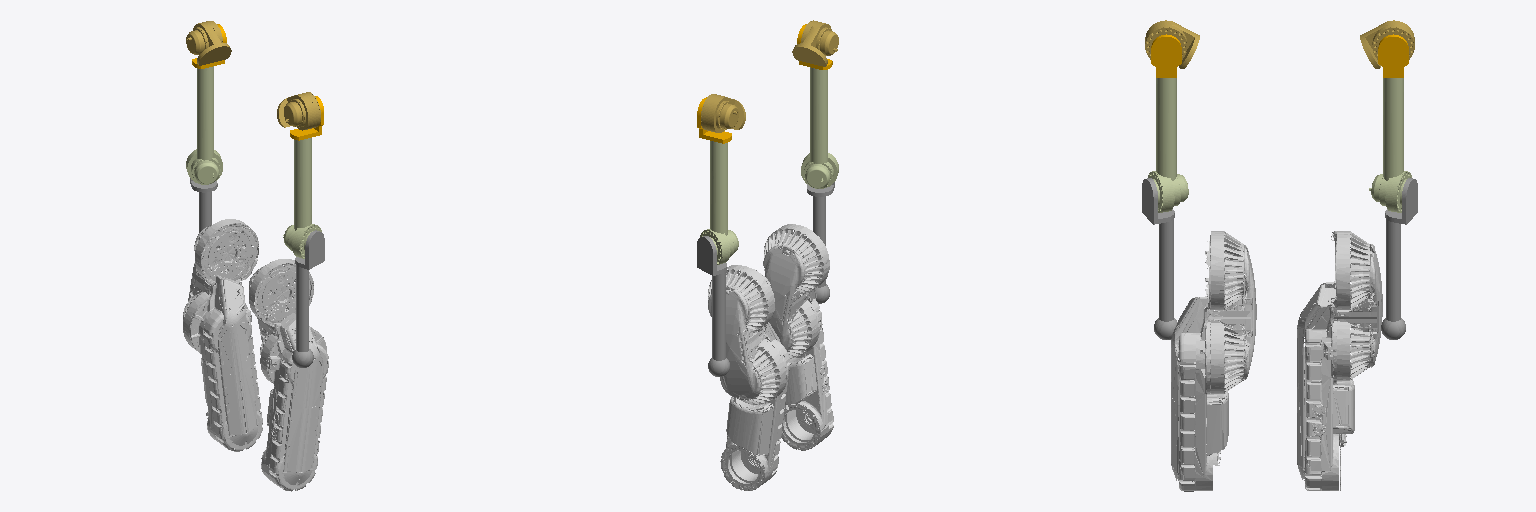
--- Render facts (derived) ---
3 views of the same robot in one strip: view 1: azimuth 30°, elevation 25°; view 2: azimuth 150°, elevation 25°; view 3: azimuth 270°, elevation 25° (orthographic).
Robot: qdh — 28 links, 27 joints (18 revolute, 9 fixed); root link Torso; default pose: all joints at 0.
Links seen in each view (by area): view 1: l_thigh_link, r_thigh_link, l_shldr_ie_link, r_shldr_ie_link, r_elbow_fe_link, l_shldr_fe_link, r_shldr_fe_link, l_elbow_fe_link; view 2: l_thigh_link, r_thigh_link, r_shldr_ie_link, l_shldr_ie_link, l_elbow_fe_link, r_shldr_fe_link, l_shldr_fe_link, r_elbow_fe_link; view 3: r_thigh_link, l_thigh_link, l_shldr_ie_link, r_shldr_ie_link, l_elbow_fe_link, r_elbow_fe_link, l_shldr_fe_link, r_shldr_fe_link, l_shldr_aa_link, r_shldr_aa_link.
Boxes of the visible links, x1,y1,x2,y2 form: l_thigh_link: (183,219,262,451); r_thigh_link: (249,259,328,491); l_shldr_ie_link: (186,66,222,184); r_shldr_ie_link: (283,138,321,258); r_elbow_fe_link: (292,230,324,367); l_shldr_fe_link: (186,21,231,65); r_shldr_fe_link: (277,92,320,130); l_elbow_fe_link: (190,178,217,232); l_thigh_link: (708,265,790,490); r_thigh_link: (758,224,833,450); r_shldr_ie_link: (801,67,838,188); l_shldr_ie_link: (700,141,738,264); l_elbow_fe_link: (697,236,729,376); r_shldr_fe_link: (792,20,838,66); l_shldr_fe_link: (701,94,745,132); r_elbow_fe_link: (807,182,834,303); r_thigh_link: (1171,231,1256,491); l_thigh_link: (1297,231,1382,490); l_shldr_ie_link: (1369,78,1411,212); r_shldr_ie_link: (1148,78,1188,212); l_elbow_fe_link: (1381,178,1417,339); r_elbow_fe_link: (1142,178,1177,339); l_shldr_fe_link: (1360,20,1414,68); r_shldr_fe_link: (1145,20,1199,68); l_shldr_aa_link: (1378,34,1408,77); r_shldr_aa_link: (1151,34,1181,77).
Size in the robot's own frame: 0.2206 by 0.5469 by 1.02 metres.
Meshes: 19 distinct files referenced, 10 mesh visuals loaded (10 binary STL); not drawn: 9 (reference not matched to a file when rendering).

The robot description file, URDF, robot "qdh":
<robot name="qdh">
<link name="Torso">
<visual>
<origin xyz="0 0 0" rpy="0 -0 0" />
<geometry>
<mesh filename="package://qdh_model_meshes/meshes/qdh_v01/torso_link_visual.stl"/>
</geometry>
<material name="torso_link_material">
<color rgba="0.661061 0.809813 0.846468 1.0"/>
</material>
</visual>
<collision>
<origin xyz="0 0 0" rpy="0 -0 0" />
<geometry>
        <sphere radius="0.01"/>
</geometry>
<material name="torso_link_material">
<color rgba="0.5 0.5 0.5 1.0"/>
</material>
</collision>
<inertial>
<origin xyz="0.0 0.0 0.292777" rpy="0 0 0"/>
<mass value="24.1689" />
<inertia ixx="0.541355" ixy="-1.93174e-10"  ixz="1.63423e-05" iyy="0.395745" iyz="-1.75763e-09" izz="0.169528" />
</inertial>
</link>

<!--=============================== l_hip_ie (l_hip_ie_link) ===========================-->
<joint name="l_hip_ie" type="revolute">
<origin xyz="0.0 0.125 0.0" rpy="0.0 0.0 -3.14159" />
<parent link="Torso" />
<child link="l_hip_ie_link" />
<axis xyz="0 0.258819 0.965926"/>
<limit effort="70.0" velocity="4.1" lower="-0.523599" upper="0.523599"/>
<joint_properties friction="0.0"/>
</joint>

<link name="l_hip_ie_link">
<visual>
<origin xyz="0 0 0" rpy="0 -0 0" />
<geometry>
<mesh filename="package://qdh_model_meshes/meshes/qdh_v01/l_hip_ie_link_visual.stl"/>
</geometry>
<material name="l_hip_ie_link_material">
<color rgba="0.882221 0.910189 0.926037 1.0"/>
</material>
</visual>
<collision>
<origin xyz="0 0 0" rpy="0 -0 0" />
<geometry>
        <sphere radius="0.01"/>
</geometry>
<material name="l_hip_ie_link_material">
<color rgba="0.5 0.5 0.5 1.0"/>
</material>
</collision>
<inertial>
<origin xyz="0.104392 0.00237928 0.00887718" rpy="0 0 0"/>
<mass value="3.96893" />
<inertia ixx="0.0130843" ixy="0.000634222"  ixz="0.00236696" iyy="0.011952" iyz="-0.000642295" izz="0.00972725" />
</inertial>
</link>

<!--=============================== l_hip_aa (l_hip_aa_link) ===========================-->
<joint name="l_hip_aa" type="revolute">
<origin xyz="0.0 0.0 0.0" rpy="0.0 0.0 0.0" />
<parent link="l_hip_ie_link" />
<child link="l_hip_aa_link" />
<axis xyz="-1 0 0"/>
<limit effort="250.0" velocity="16.33" lower="-0.261799" upper="0.785398"/>
<joint_properties friction="0.0"/>
</joint>

<link name="l_hip_aa_link">
<visual>
<origin xyz="0 0 0" rpy="0 -0 0" />
<geometry>
<mesh filename="package://qdh_model_meshes/meshes/qdh_v01/l_hip_aa_link_visual.stl"/>
</geometry>
<material name="l_hip_aa_link_material">
<color rgba="0.972549 0.529412 0.00392157 1.0"/>
</material>
</visual>
<collision>
<origin xyz="0 0 0" rpy="0 -0 0" />
<geometry>
        <sphere radius="0.01"/>
</geometry>
<material name="l_hip_aa_link_material">
<color rgba="0.5 0.5 0.5 1.0"/>
</material>
</collision>
<inertial>
<origin xyz="0.0453699 0.00851046 0.0" rpy="0 0 0"/>
<mass value="1.04819" />
<inertia ixx="0.00149146" ixy="0.000268709"  ixz="0.0" iyy="0.00313198" iyz="0.0" izz="0.00258003" />
</inertial>
</link>

<!--=============================== l_hip_fe (l_thigh_link) ===========================-->
<joint name="l_hip_fe" type="revolute">
<origin xyz="0.0 0.0 0.0" rpy="0.0 0.0 0.0" />
<parent link="l_hip_aa_link" />
<child link="l_thigh_link" />
<axis xyz="-0 -1 -0"/>
<limit effort="250.0" velocity="16.33" lower="-2.0944" upper="0.523599"/>
<joint_properties friction="0.0"/>
</joint>

<link name="l_thigh_link">
<visual>
<origin xyz="0 0 0" rpy="0 -0 0" />
<geometry>
<mesh filename="package://qdh_model_meshes/meshes/qdh_v01/l_thigh_link_visual.stl"/>
</geometry>
<material name="l_thigh_link_material">
<color rgba="0.848889 0.848889 0.848889 1.0"/>
</material>
</visual>
<collision>
<origin xyz="0 0 0" rpy="0 -0 0" />
<geometry>
        <sphere radius="0.01"/>
</geometry>
<material name="l_thigh_link_material">
<color rgba="0.5 0.5 0.5 1.0"/>
</material>
</collision>
<inertial>
<origin xyz="-0.0122458 -0.00837821 -0.126312" rpy="0.0 0.0 0.0"/>
<mass value="8.11218" />
<inertia ixx="0.132804" ixy="-9.17515e-05"  ixz="-0.00330904" iyy="0.137766" iyz="0.0111776" izz="0.015208" />
</inertial>
</link>

<!--=============================== l_knee_fe (l_shin_link) ===========================-->
<joint name="l_knee_fe" type="revolute">
<origin xyz="0.0 0.0 -0.42" rpy="0.0 0.0 3.14159" />
<parent link="l_thigh_link" />
<child link="l_shin_link" />
<axis xyz="0 1 6.12323e-17"/>
<limit effort="250.0" velocity="16.33" lower="-0.174533" upper="2.61799"/>
<joint_properties friction="0.0"/>
</joint>

<link name="l_shin_link">
<visual>
<origin xyz="0 0 0" rpy="0 -0 0" />
<geometry>
<mesh filename="package://qdh_model_meshes/meshes/qdh_v01/l_shin_link_visual.stl"/>
</geometry>
<material name="l_shin_link_material">
<color rgba="0.408645 0.494114 0.680797 1.0"/>
</material>
</visual>
<collision>
<origin xyz="0 0 0" rpy="0 -0 0" />
<geometry>
        <sphere radius="0.01"/>
</geometry>
<material name="l_shin_link_material">
<color rgba="0.5 0.5 0.5 1.0"/>
</material>
</collision>
<inertial>
<origin xyz="-0.0227771 0.00202875 -0.190035" rpy="0 0 0"/>
<mass value="1.68866" />
<inertia ixx="0.019695" ixy="0.000101816"  ixz="-0.00036985" iyy="0.0207143" iyz="-2.21663e-05" izz="0.00143483" />
</inertial>
</link>

<!--=============================== l_ankle_fe (l_foot_link) ===========================-->
<joint name="l_ankle_fe" type="revolute">
<origin xyz="0.0 0.0 -0.42" rpy="0.0 0.0 0.0" />
<parent link="l_shin_link" />
<child link="l_foot_link" />
<axis xyz="0 1 6.12323e-17"/>
<limit effort="99.0" velocity="5.7" lower="-1.309" upper="0.523599"/>
<joint_properties friction="0.0"/>
</joint>

<link name="l_foot_link">
<visual>
<origin xyz="0 0 0" rpy="0 -0 0" />
<geometry>
<mesh filename="package://qdh_model_meshes/meshes/qdh_v01/l_foot_link_visual.stl"/>
</geometry>
<material name="l_foot_link_material">
<color rgba="0.862341 0.862341 0.862341 1.0"/>
</material>
</visual>
<collision>
<origin xyz="0 0 0" rpy="0 -0 0" />
<geometry>
<mesh filename="package://qdh_model_meshes/meshes/qdh_v01/l_foot_link_collision.stl"/>
</geometry>
<material name="l_foot_link_material">
<color rgba="0.5 0.5 0.5 1.0"/>
</material>
</collision>
<inertial>
<origin xyz="0.0227981 0.000174967 -0.0266022" rpy="0 0 0"/>
<mass value="0.659155" />
<inertia ixx="0.00291555" ixy="7.85635e-06"  ixz="0.00160026" iyy="0.0051971" iyz="-1.09285e-05" izz="0.00253433" />
</inertial>
</link>

<!--=============================== l_shldr_fe (l_shldr_fe_link) ===========================-->
<joint name="l_shldr_fe" type="revolute">
<origin xyz="0.0 0.225 0.5" rpy="0.0 0.0 -3.14159" />
<parent link="Torso" />
<child link="l_shldr_fe_link" />
<axis xyz="0 -0.866025 0.5"/>
<limit effort="70.0" velocity="4.1" lower="-3.14159" upper="0.785398"/>
<joint_properties friction="0.0"/>
</joint>

<link name="l_shldr_fe_link">
<visual>
<origin xyz="0 0 0" rpy="0 -0 0" />
<geometry>
<mesh filename="package://qdh_model_meshes/meshes/qdh_v01/l_shldr_fe_link_visual.stl"/>
</geometry>
<material name="l_shldr_fe_link_material">
<color rgba="0.778525 0.671347 0.361217 1.0"/>
</material>
</visual>
<collision>
<origin xyz="0 0 0" rpy="0 -0 0" />
<geometry>
        <sphere radius="0.01"/>
</geometry>
<material name="l_shldr_fe_link_material">
<color rgba="0.5 0.5 0.5 1.0"/>
</material>
</collision>
<inertial>
<origin xyz="0.000369843 0.00906443 -0.00296103" rpy="0 0 0"/>
<mass value="1.29278" />
<inertia ixx="0.00132913" ixy="4.33403e-06"  ixz="-1.35362e-06" iyy="0.000862929" iyz="0.000100516" izz="0.0011652" />
</inertial>
</link>

<!--=============================== l_shldr_aa (l_shldr_aa_link) ===========================-->
<joint name="l_shldr_aa" type="revolute">
<origin xyz="0.0 0.0 0" rpy="0.0 0.0 0.0" />
<parent link="l_shldr_fe_link" />
<child link="l_shldr_aa_link" />
<axis xyz="-1 0 0"/>
<limit effort="70.0" velocity="4.1" lower="0" upper="2.0944"/>
<joint_properties friction="0.0"/>
</joint>

<link name="l_shldr_aa_link">
<visual>
<origin xyz="0 0 0" rpy="0 -0 0" />
<geometry>
<mesh filename="package://qdh_model_meshes/meshes/qdh_v01/l_shldr_aa_link_visual.stl"/>
</geometry>
<material name="l_shldr_aa_link_material">
<color rgba="0.980392 0.713725 0.00392157 1.0"/>
</material>
</visual>
<collision>
<origin xyz="0 0 0" rpy="0 -0 0" />
<geometry>
        <sphere radius="0.01"/>
</geometry>
<material name="l_shldr_aa_link_material">
<color rgba="0.5 0.5 0.5 1.0"/>
</material>
</collision>
<inertial>
<origin xyz="-0.0235146 0.0 -0.0282856" rpy="0.0 0.0 0.0"/>
<mass value="0.50916" />
<inertia ixx="0.000477279" ixy="-9.4465e-36"  ixz="0.000156224" iyy="0.00055751" iyz="2.01636e-34" izz="0.000283247" />
</inertial>
</link>

<!--=============================== l_shldr_ie (l_shldr_ie_link) ===========================-->
<joint name="l_shldr_ie" type="revolute">
<origin xyz="0 0 0" rpy="0.0 0.0 0.0" />
<parent link="l_shldr_aa_link" />
<child link="l_shldr_ie_link" />
<axis xyz="0 0 1"/>
<limit effort="70.0" velocity="4.1" lower="0" upper="0"/>
<joint_properties friction="0.0"/>
</joint>

<link name="l_shldr_ie_link">
<visual>
<origin xyz="0 0 0" rpy="0 -0 0" />
<geometry>
<mesh filename="package://qdh_model_meshes/meshes/qdh_v01/l_shldr_ie_link_visual.stl"/>
</geometry>
<material name="l_shldr_ie_link_material">
<color rgba="0.770977 0.805086 0.645547 1.0"/>
</material>
</visual>
<collision>
<origin xyz="0 0 0" rpy="0 -0 0" />
<geometry>
        <sphere radius="0.01"/>
</geometry>
<material name="l_shldr_ie_link_material">
<color rgba="0.5 0.5 0.5 1.0"/>
</material>
</collision>
<inertial>
<origin xyz="0.0 0.000139041 -0.246428" rpy="0 0 0"/>
<mass value="1.7655" />
<inertia ixx="0.0145824" ixy="-1.98116e-05"  ixz="4.02637e-05" iyy="0.0146254" iyz="1.24064e-05" izz="0.000666801" />
</inertial>
</link>

<!--=============================== l_elbow_fe (l_elbow_fe_link) ===========================-->
<joint name="l_elbow_fe" type="revolute">
<origin xyz="0.0 0.0 -0.325" rpy="0.0 0.0 -0.392699" />
<parent link="l_shldr_ie_link" />
<child link="l_elbow_fe_link" />
<axis xyz="0 -1 -6.12323e-17"/>
<limit effort="70.0" velocity="4.1" lower="-2.53073" upper="0.174533"/>
<joint_properties friction="0.0"/>
</joint>

<link name="l_elbow_fe_link">
<visual>
<origin xyz="0 0 0" rpy="0 -0 0" />
<geometry>
<mesh filename="package://qdh_model_meshes/meshes/qdh_v01/l_elbow_fe_link_visual.stl"/>
</geometry>
<material name="l_elbow_fe_link_material">
<color rgba="0.647059 0.647059 0.647059 1.0"/>
</material>
</visual>
<collision>
<origin xyz="0 0 0" rpy="0 -0 0" />
<geometry>
        <sphere radius="0.01"/>
</geometry>
<material name="l_elbow_fe_link_material">
<color rgba="0.5 0.5 0.5 1.0"/>
</material>
</collision>
<inertial>
<origin xyz="0.0 -0.00643269 -0.162661" rpy="0 0 0"/>
<mass value="1.02527" />
<inertia ixx="0.0115586" ixy="0.0"  ixz="0.0" iyy="0.011444" iyz="0.000942624" izz="0.000366721" />
</inertial>
</link>

<!--=============================== r_hip_ie (r_hip_ie_link) ===========================-->
<joint name="r_hip_ie" type="revolute">
<origin xyz="0.0 -0.125 0.0" rpy="0.0 0.0 0.0" />
<parent link="Torso" />
<child link="r_hip_ie_link" />
<axis xyz="0 0.258819 0.965926"/>
<limit effort="70.0" velocity="4.1" lower="-0.523599" upper="0.523599"/>
<joint_properties friction="0.0"/>
</joint>

<link name="r_hip_ie_link">
<visual>
<origin xyz="0 0 0" rpy="0 -0 0" />
<geometry>
<mesh filename="package://qdh_model_meshes/meshes/qdh_v01/r_hip_ie_link_visual.stl"/>
</geometry>
<material name="r_hip_ie_link_material">
<color rgba="0.882221 0.910189 0.926037 1.0"/>
</material>
</visual>
<collision>
<origin xyz="0 0 0" rpy="0 -0 0" />
<geometry>
        <sphere radius="0.01"/>
</geometry>
<material name="r_hip_ie_link_material">
<color rgba="0.5 0.5 0.5 1.0"/>
</material>
</collision>
<inertial>
<origin xyz="-0.104392 0.00237807 0.0088775" rpy="0 0 0"/>
<mass value="3.96893" />
<inertia ixx="0.0130843" ixy="-0.000641895"  ixz="-0.00236694" iyy="0.011952" iyz="-0.000630085" izz="0.00972728" />
</inertial>
</link>

<!--=============================== r_hip_aa (r_hip_aa_link) ===========================-->
<joint name="r_hip_aa" type="revolute">
<origin xyz="0 0.0 0.0" rpy="0.0 0.0 0.0" />
<parent link="r_hip_ie_link" />
<child link="r_hip_aa_link" />
<axis xyz="1 0 0"/>
<limit effort="250.0" velocity="16.33" lower="-0.785398" upper="0.261799"/>
<joint_properties friction="0.0"/>
</joint>

<link name="r_hip_aa_link">
<visual>
<origin xyz="0 0 0" rpy="0 -0 0" />
<geometry>
<mesh filename="package://qdh_model_meshes/meshes/qdh_v01/r_hip_aa_link_visual.stl"/>
</geometry>
<material name="r_hip_aa_link_material">
<color rgba="0.972549 0.529412 0.00392157 1.0"/>
</material>
</visual>
<collision>
<origin xyz="0 0 0" rpy="0 -0 0" />
<geometry>
        <sphere radius="0.01"/>
</geometry>
<material name="r_hip_aa_link_material">
<color rgba="0.5 0.5 0.5 1.0"/>
</material>
</collision>
<inertial>
<origin xyz="-0.0453699 0.00851046 0.0" rpy="0 0 0"/>
<mass value="1.04819" />
<inertia ixx="0.00149146" ixy="-0.000268709"  ixz="-1.1019e-33" iyy="0.00313198" iyz="-1.11739e-33" izz="0.00258003" />
</inertial>
</link>

<!--=============================== r_hip_fe (r_thigh_link) ===========================-->
<joint name="r_hip_fe" type="revolute">
<origin xyz="0.0 0.0 0.0" rpy="0.0 0.0 0.0" />
<parent link="r_hip_aa_link" />
<child link="r_thigh_link" />
<axis xyz="0 1 0"/>
<limit effort="250.0" velocity="16.33" lower="-2.0944" upper="0.523599"/>
<joint_properties friction="0.0"/>
</joint>

<link name="r_thigh_link">
<visual>
<origin xyz="0 0 0" rpy="0 -0 0" />
<geometry>
<mesh filename="package://qdh_model_meshes/meshes/qdh_v01/r_thigh_link_visual.stl"/>
</geometry>
<material name="r_thigh_link_material">
<color rgba="0.848889 0.848889 0.848889 1.0"/>
</material>
</visual>
<collision>
<origin xyz="0 0 0" rpy="0 -0 0" />
<geometry>
        <sphere radius="0.01"/>
</geometry>
<material name="r_thigh_link_material">
<color rgba="0.5 0.5 0.5 1.0"/>
</material>
</collision>
<inertial>
<origin xyz="0.0122457 -0.00837821 -0.126312" rpy="0 0 0"/>
<mass value="8.11218" />
<inertia ixx="0.132804" ixy="9.17761e-05"  ixz="0.00330976" iyy="0.137766" iyz="0.0111776" izz="0.0152083" />
</inertial>
</link>

<!--=============================== r_knee_fe (r_shin_link) ===========================-->
<joint name="r_knee_fe" type="revolute">
<origin xyz="0.0 0.0 -0.42" rpy="0.0 0.0 0.0" />
<parent link="r_thigh_link" />
<child link="r_shin_link" />
<axis xyz="0 1 6.12323e-17"/>
<limit effort="250.0" velocity="16.33" lower="-0.174533" upper="2.61799"/>
<joint_properties friction="0.0"/>
</joint>

<link name="r_shin_link">
<visual>
<origin xyz="0 0 0" rpy="0 -0 0" />
<geometry>
<mesh filename="package://qdh_model_meshes/meshes/qdh_v01/r_shin_link_visual.stl"/>
</geometry>
<material name="r_shin_link_material">
<color rgba="0.408645 0.494114 0.680797 1.0"/>
</material>
</visual>
<collision>
<origin xyz="0 0 0" rpy="0 -0 0" />
<geometry>
        <sphere radius="0.01"/>
</geometry>
<material name="r_shin_link_material">
<color rgba="0.5 0.5 0.5 1.0"/>
</material>
</collision>
<inertial>
<origin xyz="-0.0227695 -0.0020287 -0.190035" rpy="0 0 0"/>
<mass value="1.68866" />
<inertia ixx="0.019695" ixy="-9.5015e-05"  ixz="-0.000557333" iyy="0.0207135" iyz="2.21742e-05" izz="0.00143407" />
</inertial>
</link>

<!--=============================== r_ankle_fe (r_foot_link) ===========================-->
<joint name="r_ankle_fe" type="revolute">
<origin xyz="0.0 0 -0.42" rpy="0.0 0.0 0.0" />
<parent link="r_shin_link" />
<child link="r_foot_link" />
<axis xyz="0 1 6.12323e-17"/>
<limit effort="99.0" velocity="5.7" lower="-1.309" upper="0.523599"/>
<joint_properties friction="0.0"/>
</joint>

<link name="r_foot_link">
<visual>
<origin xyz="0 0 0" rpy="0 -0 0" />
<geometry>
<mesh filename="package://qdh_model_meshes/meshes/qdh_v01/r_foot_link_visual.stl"/>
</geometry>
<material name="r_foot_link_material">
<color rgba="0.862341 0.862341 0.862341 1.0"/>
</material>
</visual>
<collision>
<origin xyz="0 0 0" rpy="0 -0 0" />
<geometry>
<mesh filename="package://qdh_model_meshes/meshes/qdh_v01/r_foot_link_collision.stl"/>
</geometry>
<material name="r_foot_link_material">
<color rgba="0.5 0.5 0.5 1.0"/>
</material>
</collision>
<inertial>
<origin xyz="0.0227995 -0.000174941 -0.0266021" rpy="0 0 0"/>
<mass value="0.659155" />
<inertia ixx="0.00291557" ixy="-8.08351e-06"  ixz="0.00158457" iyy="0.00519698" iyz="1.09285e-05" izz="0.0025342" />
</inertial>
</link>

<!--=============================== r_shldr_fe (r_shldr_fe_link) ===========================-->
<joint name="r_shldr_fe" type="revolute">
<origin xyz="0.0 -0.225 0.5" rpy="0.0 0.0 0.0" />
<parent link="Torso" />
<child link="r_shldr_fe_link" />
<axis xyz="0 0.866025 -0.5"/>
<limit effort="70.0" velocity="4.1" lower="-3.14159" upper="0.785398"/>
<joint_properties friction="0.0"/>
</joint>

<link name="r_shldr_fe_link">
<visual>
<origin xyz="0 0 0" rpy="0 -0 0" />
<geometry>
<mesh filename="package://qdh_model_meshes/meshes/qdh_v01/r_shldr_fe_link_visual.stl"/>
</geometry>
<material name="r_shldr_fe_link_material">
<color rgba="0.778525 0.671347 0.361217 1.0"/>
</material>
</visual>
<collision>
<origin xyz="0 0 0" rpy="0 -0 0" />
<geometry>
        <sphere radius="0.01"/>
</geometry>
<material name="r_shldr_fe_link_material">
<color rgba="0.5 0.5 0.5 1.0"/>
</material>
</collision>
<inertial>
<origin xyz="-0.000369843 0.00906443 -0.00299746" rpy="0 0 0"/>
<mass value="1.29278" />
<inertia ixx="0.00132885" ixy="-4.33403e-06"  ixz="1.49529e-06" iyy="0.000862648" iyz="0.000100089" izz="0.0011652" />
</inertial>
</link>

<!--=============================== r_shldr_aa (r_shldr_aa_link) ===========================-->
<joint name="r_shldr_aa" type="revolute">
<origin xyz="-1.57772e-30 0 0" rpy="0.0 0.0 0.0" />
<parent link="r_shldr_fe_link" />
<child link="r_shldr_aa_link" />
<axis xyz="1 0 0"/>
<limit effort="70.0" velocity="4.1" lower="-2.0944" upper="0"/>
<joint_properties friction="0.0"/>
</joint>

<link name="r_shldr_aa_link">
<visual>
<origin xyz="0 0 0" rpy="0 -0 0" />
<geometry>
<mesh filename="package://qdh_model_meshes/meshes/qdh_v01/r_shldr_aa_link_visual.stl"/>
</geometry>
<material name="r_shldr_aa_link_material">
<color rgba="0.980392 0.713725 0.00392157 1.0"/>
</material>
</visual>
<collision>
<origin xyz="0 0 0" rpy="0 -0 0" />
<geometry>
        <sphere radius="0.01"/>
</geometry>
<material name="r_shldr_aa_link_material">
<color rgba="0.5 0.5 0.5 1.0"/>
</material>
</collision>
<inertial>
<origin xyz="0.0235146 0.0 -0.0282856" rpy="0 0 0"/>
<mass value="0.50916" />
<inertia ixx="0.000477279" ixy="-7.64958e-34"  ixz="-0.000156224" iyy="0.00055751" iyz="6.71119e-34" izz="0.000283247" />
</inertial>
</link>

<!--=============================== r_shldr_ie (r_shldr_ie_link) ===========================-->
<joint name="r_shldr_ie" type="revolute">
<origin xyz="0.0 0 0" rpy="0.0 0.0 0.0" />
<parent link="r_shldr_aa_link" />
<child link="r_shldr_ie_link" />
<axis xyz="0 0 1"/>
<limit effort="70.0" velocity="4.1" lower="0" upper="0"/>
<joint_properties friction="0.0"/>
</joint>

<link name="r_shldr_ie_link">
<visual>
<origin xyz="0 0 0" rpy="0 -0 0" />
<geometry>
<mesh filename="package://qdh_model_meshes/meshes/qdh_v01/r_shldr_ie_link_visual.stl"/>
</geometry>
<material name="r_shldr_ie_link_material">
<color rgba="0.770977 0.805086 0.645547 1.0"/>
</material>
</visual>
<collision>
<origin xyz="0 0 0" rpy="0 -0 0" />
<geometry>
        <sphere radius="0.01"/>
</geometry>
<material name="r_shldr_ie_link_material">
<color rgba="0.5 0.5 0.5 1.0"/>
</material>
</collision>
<inertial>
<origin xyz="0.0 0.00012884 -0.246428" rpy="0 0 0"/>
<mass value="1.7655" />
<inertia ixx="0.0145824" ixy="1.98274e-05"  ixz="-4.36817e-05" iyy="0.0146255" iyz="1.0988e-05" izz="0.000666801" />
</inertial>
</link>

<!--=============================== r_elbow_fe (r_elbow_fe_link) ===========================-->
<joint name="r_elbow_fe" type="revolute">
<origin xyz="0.0 0.0 -0.325" rpy="0.0 0.0 0.392699" />
<parent link="r_shldr_ie_link" />
<child link="r_elbow_fe_link" />
<axis xyz="0 1 6.12323e-17"/>
<limit effort="70.0" velocity="4.1" lower="-2.53073" upper="0.174533"/>
<joint_properties friction="0.0"/>
</joint>

<link name="r_elbow_fe_link">
<visual>
<origin xyz="0 0 0" rpy="0 -0 0" />
<geometry>
<mesh filename="package://qdh_model_meshes/meshes/qdh_v01/r_elbow_fe_link_visual.stl"/>
</geometry>
<material name="r_elbow_fe_link_material">
<color rgba="0.647059 0.647059 0.647059 1.0"/>
</material>
</visual>
<collision>
<origin xyz="0 0 0" rpy="0 -0 0" />
<geometry>
        <sphere radius="0.01"/>
</geometry>
<material name="r_elbow_fe_link_material">
<color rgba="0.5 0.5 0.5 1.0"/>
</material>
</collision>
<inertial>
<origin xyz="0.0 -0.00643269 -0.162661" rpy="0 0 0"/>
<mass value="1.02527" />
<inertia ixx="0.0115586" ixy="-4.44287e-18"  ixz="-4.9277e-20" iyy="0.011444" iyz="0.000942624" izz="0.000366721" />
</inertial>
</link>


  <link name="IMU">
    <inertial>
      <mass value="0.0001"/>
      <origin rpy="0 0 0" xyz="0.0 0.0 0.0"/>
      <inertia ixx="0.00000001" ixy="0" ixz="0" iyy="0.00000001" iyz="0" izz="0.00000001"/>
    </inertial>
  </link>
  <joint name="IMU" type="fixed">
    <origin rpy="0 3.1415926 0" xyz="-0.05 -0.00 0.055"/>
    <parent link="Torso"/>
    <child link="IMU"/>
  </joint>


  <link name="lToe">
    <inertial>
      <origin rpy="0 0 0" xyz="0 0 0"/>
      <mass value="0"/>
      <inertia ixx="0" ixy="0" ixz="0" iyy="0" iyz="0" izz="0"/>
    </inertial>
  </link>
  <joint name="lToe" type="fixed">
    <origin rpy="0 0 0" xyz="0.125 0 -0.075"/>
    <parent link="l_foot_link"/>
    <child link="lToe"/>
  </joint>
  <link name="lHeel">
    <inertial>
      <origin rpy="0 0 0" xyz="0 0 0"/>
      <mass value="0"/>
      <inertia ixx="0" ixy="0" ixz="0" iyy="0" iyz="0" izz="0"/>
    </inertial>
  </link>
  <joint name="lHeel" type="fixed">
    <origin rpy="0 0 0" xyz="-0.025 0 -0.075"/>
    <parent link="l_foot_link"/>
    <child link="lHeel"/>
  </joint>
  <joint name="l_foot_contact_frame" type="fixed">
    <origin rpy="0 0 0" xyz="0 0 -0.075"/>
    <parent link="l_foot_link"/>
    <child link="lFoot"/>
  </joint>
  <link name="lFoot">
    <inertial>
      <origin rpy="0 0 0" xyz="0 0 0"/>
      <mass value="1e-9"/>
      <inertia ixx="0" ixy="0" ixz="0" iyy="0" iyz="0" izz="0"/>
    </inertial>
  </link>
  <link name="rToe">
    <inertial>
      <origin rpy="0 0 0" xyz="0 0 0"/>
      <mass value="0"/>
      <inertia ixx="0" ixy="0" ixz="0" iyy="0" iyz="0" izz="0"/>
    </inertial>
  </link>
  <joint name="rToe" type="fixed">
    <origin rpy="0 0 0" xyz="0.125 0 -0.075"/>
    <parent link="r_foot_link"/>
    <child link="rToe"/>
  </joint>
  <link name="rHeel">
    <inertial>
      <origin rpy="0 0 0" xyz="0 0 0"/>
      <mass value="0"/>
      <inertia ixx="0" ixy="0" ixz="0" iyy="0" iyz="0" izz="0"/>
    </inertial>
  </link>
  <joint name="rHeel" type="fixed">
    <origin rpy="0 0 0" xyz="-0.025 0 -0.075"/>
    <parent link="r_foot_link"/>
    <child link="rHeel"/>
  </joint>
  <joint name="r_foot_contact_frame" type="fixed">
    <origin rpy="0 0 0" xyz="0 0 -0.075"/>
    <parent link="r_foot_link"/>
    <child link="rFoot"/>
  </joint>
  <link name="rFoot">
    <inertial>
      <origin rpy="0 0 0" xyz="0 0 0"/>
      <mass value="1e-9"/>
      <inertia ixx="0" ixy="0" ixz="0" iyy="0" iyz="0" izz="0"/>
    </inertial>
  </link>


  <link name="lHand">
    <inertial>
      <origin rpy="0 0 0" xyz="0 0 0"/>
      <mass value="0.000001"/>
      <inertia ixx="0" ixy="0" ixz="0" iyy="0" iyz="0" izz="0"/>
    </inertial>
  </link>
  <joint name="lHand" type="fixed">
    <origin rpy="0 0 0" xyz="0 0 -0.3"/>
    <parent link="l_elbow_fe_link"/>
    <child link="lHand"/>
  </joint>
  <link name="rHand">
    <inertial>
      <origin rpy="0 0 0" xyz="0 0 0"/>
      <mass value="0.000001"/>
      <inertia ixx="0" ixy="0" ixz="0" iyy="0" iyz="0" izz="0"/>
    </inertial>
  </link>
  <joint name="rHand" type="fixed">
    <origin rpy="0 0 0" xyz="0 0 -0.3"/>
    <parent link="r_elbow_fe_link"/>
    <child link="rHand"/>
  </joint>



  <gazebo>
    <plugin filename="ign_cortex_control_plugin" name="aptk::sim::IgnControlPlugin">
      <control_rate>1000</control_rate>
    </plugin>
    <plugin filename="ignition-gazebo-imu-system" name="ignition::gazebo::systems::Imu">
    </plugin>
    <plugin filename="ignition-gazebo-odometry-publisher-system" name="ignition::gazebo::systems::OdometryPublisher">
      <dimensions>3</dimensions>
      <odom_publish_frequency>1000</odom_publish_frequency>
    </plugin>
  </gazebo>

  <gazebo reference="IMU">
    <sensor name="IMU" type="imu">
      <always_on>1</always_on>
      <update_rate>1000</update_rate>
      <visualize>true</visualize>
      <topic>imu_link</topic>
      <imu>
        <angular_velocity>
          <x>
            <noise type="gaussian">
              <mean>0.0</mean>
              <stddev>2e-4</stddev>
              <bias_mean>0.0000075</bias_mean>
              <bias_stddev>0.0000008</bias_stddev>
            </noise>
          </x>
          <y>
            <noise type="gaussian">
              <mean>0.0</mean>
              <stddev>2e-4</stddev>
              <bias_mean>0.0000075</bias_mean>
              <bias_stddev>0.0000008</bias_stddev>
            </noise>
          </y>
          <z>
            <noise type="gaussian">
              <mean>0.0</mean>
              <stddev>2e-4</stddev>
              <bias_mean>0.0000075</bias_mean>
              <bias_stddev>0.0000008</bias_stddev>
            </noise>
          </z>
        </angular_velocity>
        <linear_acceleration>
          <x>
            <noise type="gaussian">
              <mean>0.0</mean>
              <stddev>1.7e-2</stddev>
              <bias_mean>0.1</bias_mean>
              <bias_stddev>0.001</bias_stddev>
            </noise>
          </x>
          <y>
            <noise type="gaussian">
              <mean>0.0</mean>
              <stddev>1.7e-2</stddev>
              <bias_mean>0.1</bias_mean>
              <bias_stddev>0.001</bias_stddev>
            </noise>
          </y>
          <z>
            <noise type="gaussian">
              <mean>0.0</mean>
              <stddev>1.7e-2</stddev>
              <bias_mean>0.1</bias_mean>
              <bias_stddev>0.001</bias_stddev>
            </noise>
          </z>
        </linear_acceleration>
      </imu>
    </sensor>
  </gazebo>


</robot>
